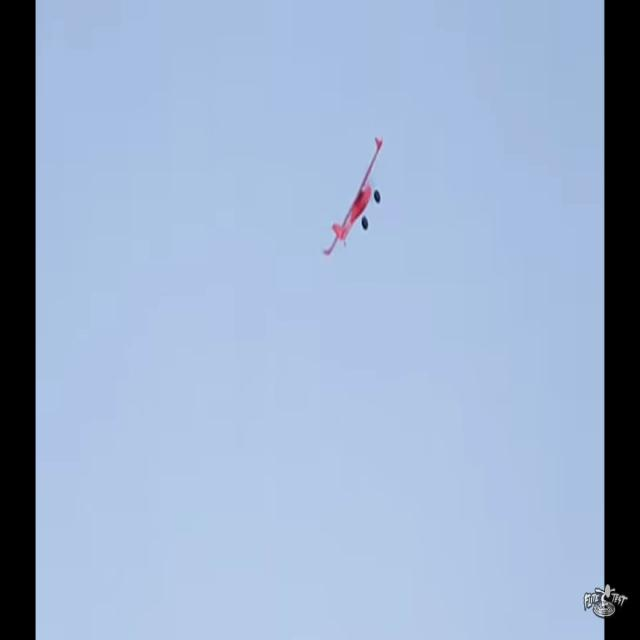iha: (321, 168, 383, 225)
